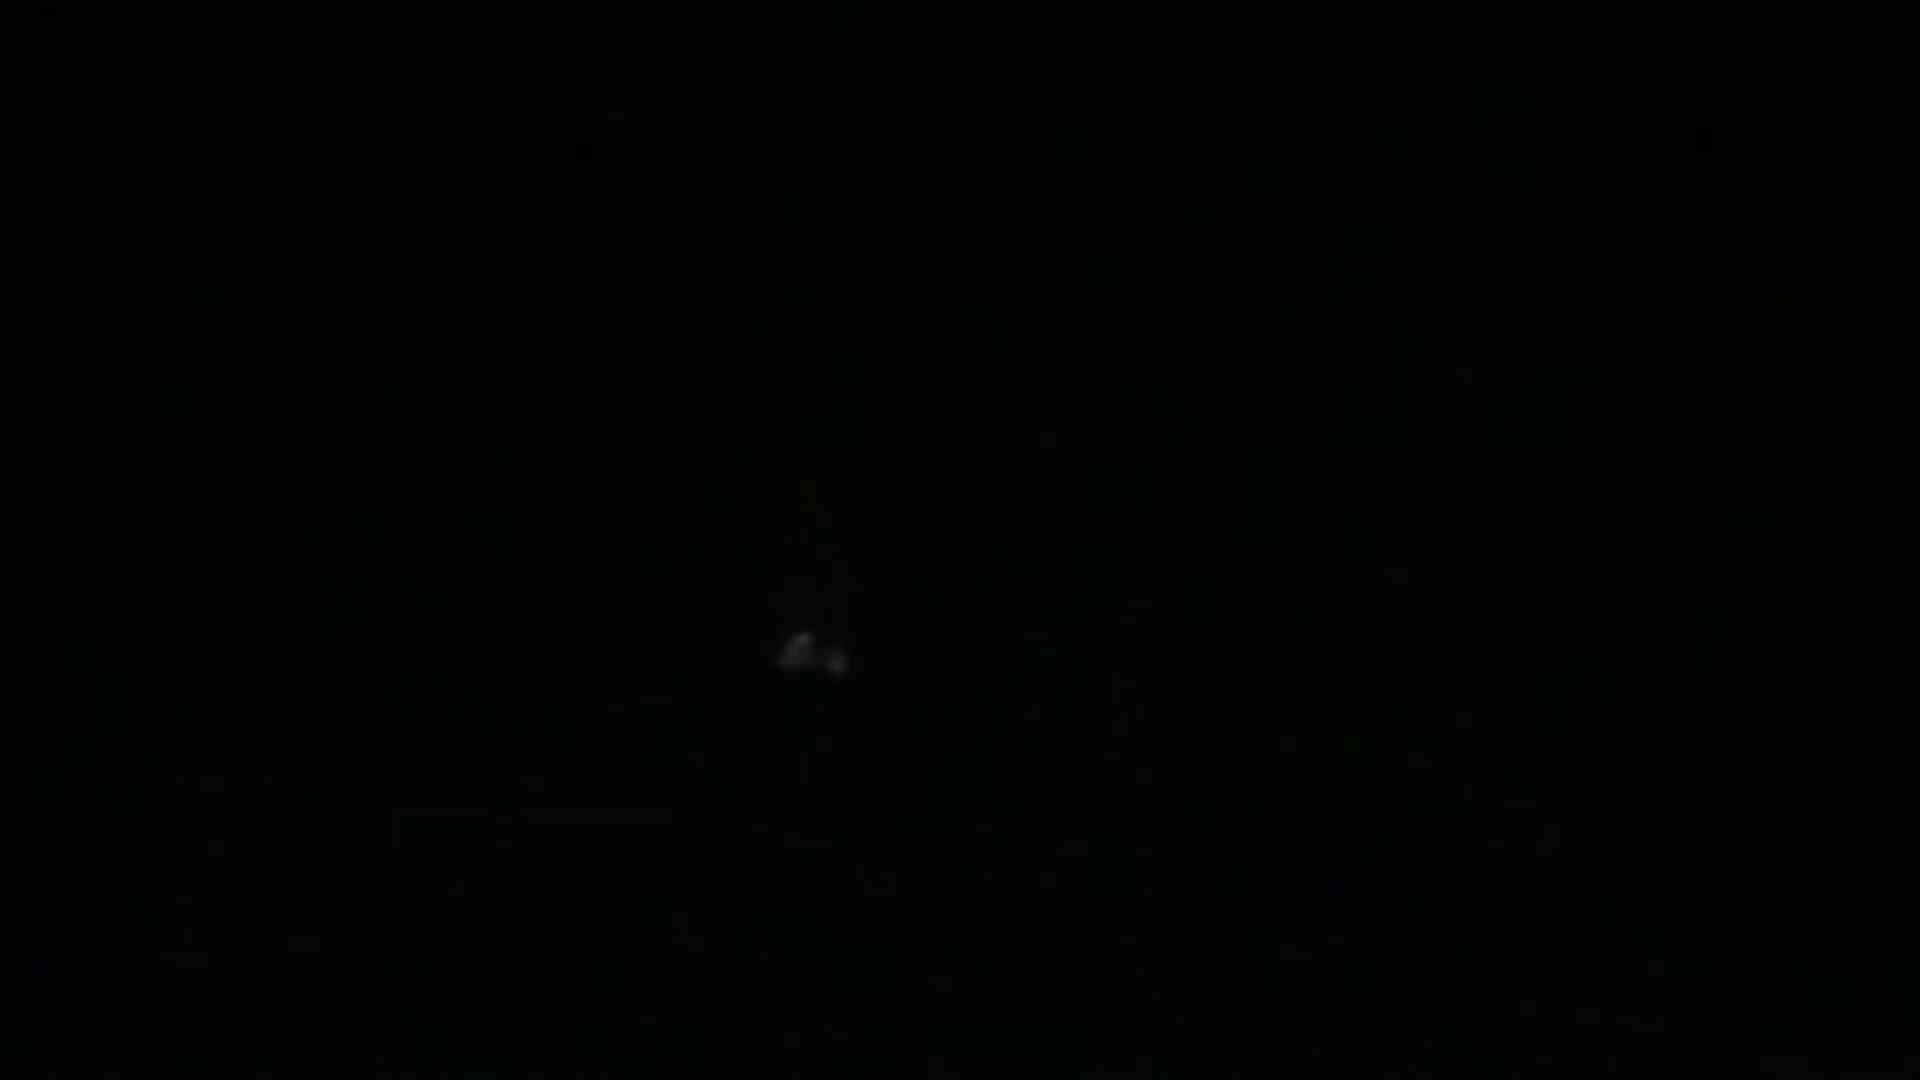Plane: (720, 604, 903, 705)
